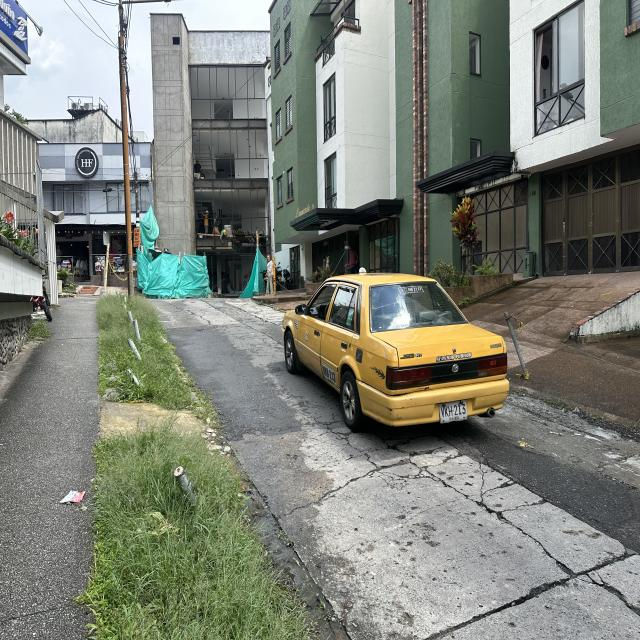number plate: (439, 400, 467, 423)
